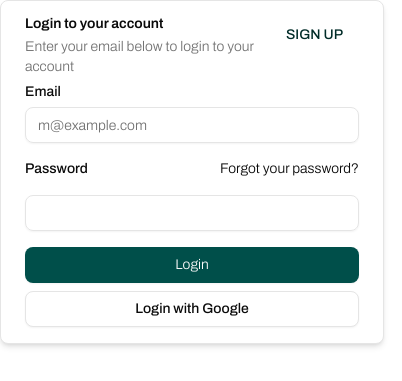
Scenario: Login component › should correctly render error on error span element
Type "test@example.com" into the field labelled "Email" at (192, 125), box x1=25 y1=107 x2=359 y2=143
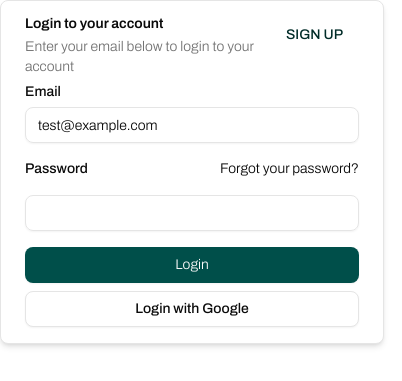
Type "Password123" into the password field labelled "Password" at (192, 213), box x1=25 y1=195 x2=359 y2=231
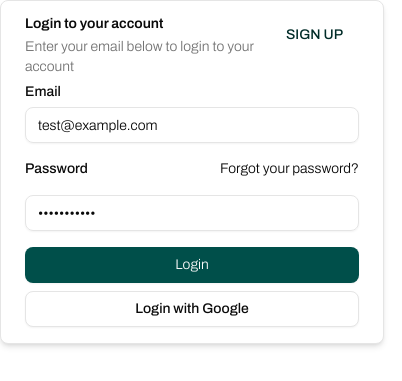
Click the button "Login" at (192, 265), box x1=25 y1=247 x2=359 y2=283
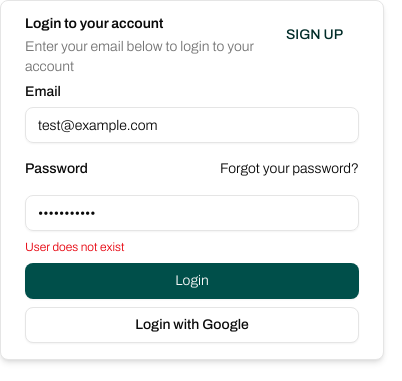
Expected: the text with test id "^error$" reads "User does not exist", x1=25 y1=240 x2=124 y2=254
